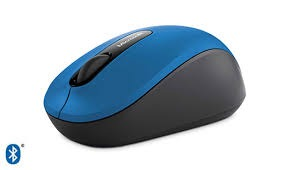mouse: (43, 22, 248, 146)
